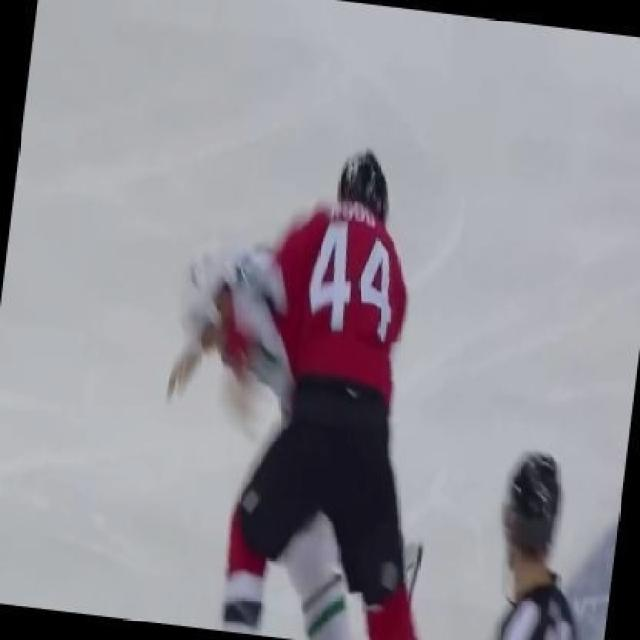fight: (160, 139, 437, 640)
non-fight: (483, 438, 586, 640)
